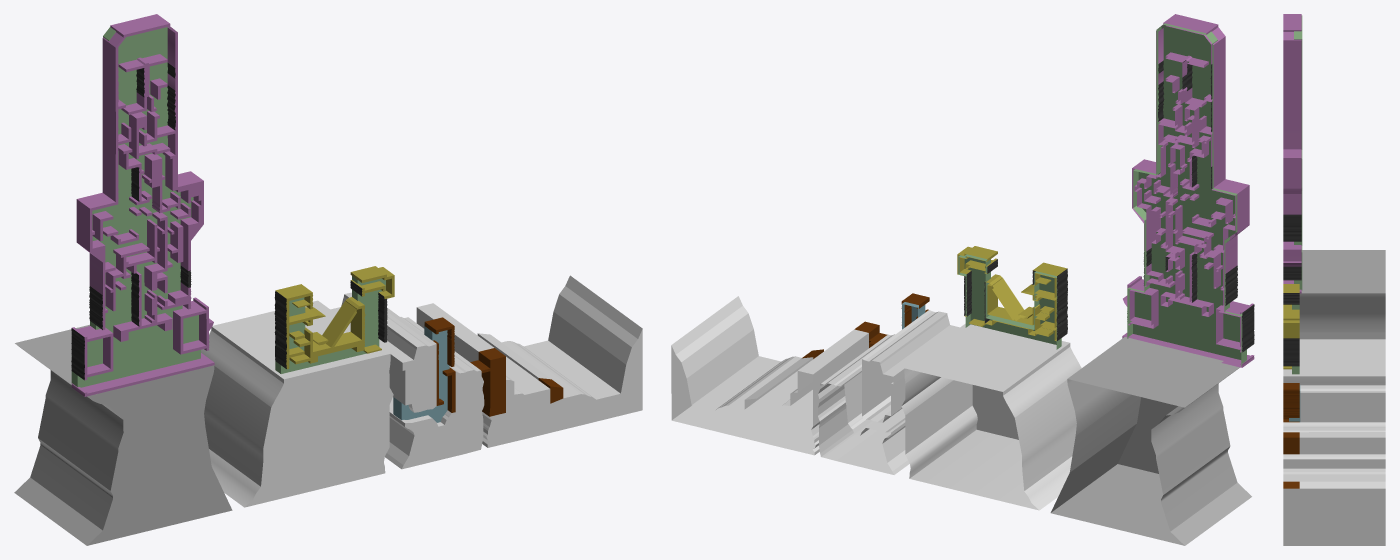
Rendered from ice_levelGreyBox_01_mesh.fbx.
3 views of the same model, side by side, from view 1: azimuth 30°, elevation 25°; view 2: azimuth 150°, elevation 25°; view 3: azimuth 270°, elevation 25° (orthographic). The views are drawn at different scales.
Visible parts, largest first — view 1: Ice_Lower_tower_Iceberg, polySurface6, Ice_TowerIceberg_GreyBox, Ice_Base_Tower_GreyBox, backwall (×2), backWall; view 2: Ice_Lower_tower_Iceberg, Ice_TowerIceberg_GreyBox, polySurface6, Ice_Base_Tower_GreyBox, backwall, backWall; view 3: polySurface6, Ice_TowerIceberg_GreyBox, Ice_Lower_tower_Iceberg, Ice_Base_Tower_GreyBox, backwall.
Boxes of the visible parts, x1,y1,x2,y2 form: Ice_Lower_tower_Iceberg: (201, 266, 394, 507); polySurface6: (330, 275, 642, 469); Ice_TowerIceberg_GreyBox: (14, 324, 232, 545); Ice_Base_Tower_GreyBox: (71, 14, 214, 396); backwall (×2): (71, 27, 449, 422); backWall: (275, 276, 385, 373); Ice_Lower_tower_Iceberg: (901, 246, 1081, 510); Ice_TowerIceberg_GreyBox: (1050, 337, 1251, 545); polySurface6: (671, 293, 959, 474); Ice_Base_Tower_GreyBox: (1122, 14, 1254, 367); backwall: (1127, 23, 1246, 366); backWall: (958, 254, 1061, 349); polySurface6: (1283, 383, 1385, 545); Ice_TowerIceberg_GreyBox: (1299, 250, 1385, 339); Ice_Lower_tower_Iceberg: (1283, 284, 1385, 385); Ice_Base_Tower_GreyBox: (1283, 14, 1301, 293); backwall: (1294, 15, 1302, 290).
Bounding box in the file's own units: 44.07 × 37.89 × 9.95.
